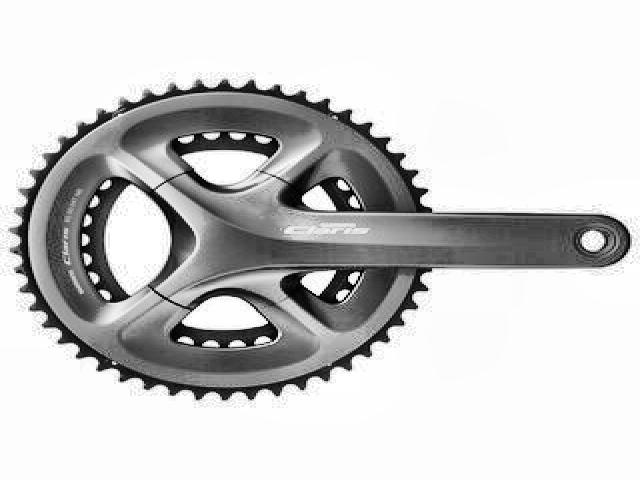cranks_set: (7, 77, 631, 405)
